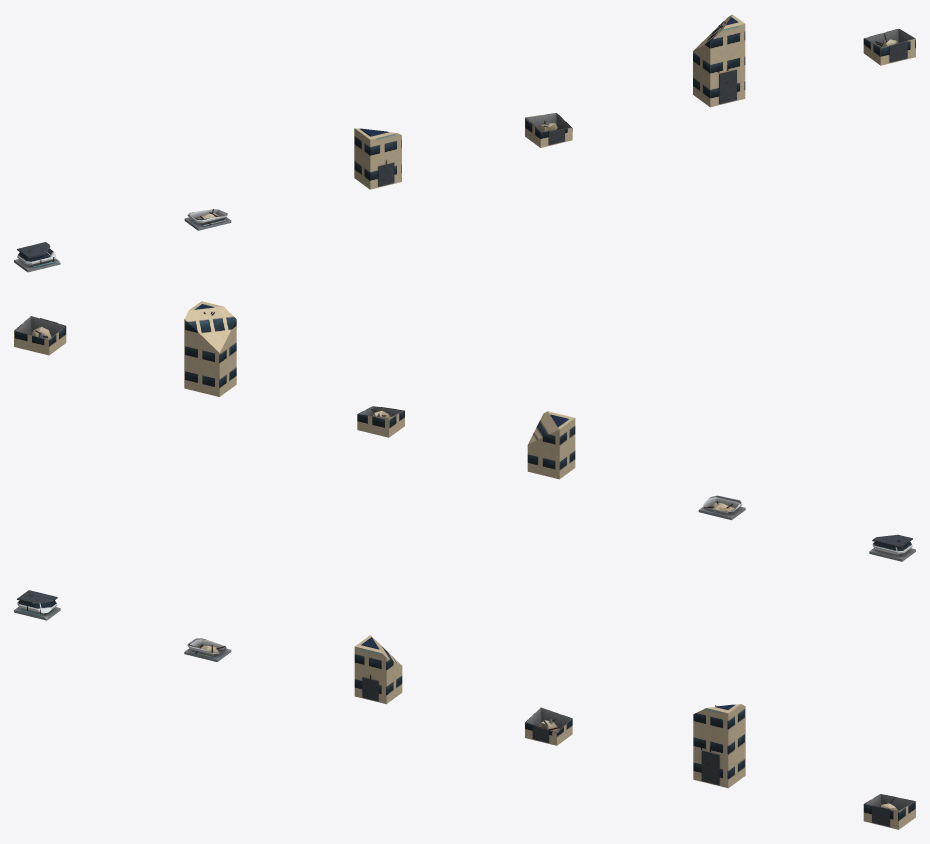
Rendered from future-levant-houses-damage.glb.
The picture shows the model from 3 angles, top to bottom: view 1: azimuth 30°, elevation 25°; view 2: azimuth 150°, elevation 25°; view 3: azimuth 330°, elevation 25°; orthographic projection.
Visible parts, largest first — view 1: LOD0.004, LOD0.002, LOD0.005, LOD0.003, LOD0, LOD0.001; view 2: LOD0.004, LOD0.002, LOD0.005, LOD0.003, LOD0, LOD0.001; view 3: LOD0.004, LOD0.002, LOD0.005, LOD0.003, LOD0, LOD0.001.
Boxes of the visible parts, box(x1,y1,x2,y2) form: LOD0.004: box(693, 14, 745, 107); LOD0.002: box(354, 128, 401, 189); LOD0.005: box(863, 28, 915, 65); LOD0.003: box(525, 113, 572, 147); LOD0: box(14, 242, 60, 272); LOD0.001: box(184, 209, 231, 230); LOD0.004: box(184, 301, 236, 396); LOD0.002: box(527, 411, 575, 479); LOD0.005: box(14, 316, 66, 355); LOD0.003: box(357, 406, 404, 437); LOD0: box(869, 534, 915, 561); LOD0.001: box(698, 495, 745, 520); LOD0.004: box(693, 704, 745, 788); LOD0.002: box(354, 635, 402, 704); LOD0.005: box(863, 794, 915, 829); LOD0.003: box(525, 707, 572, 745); LOD0: box(14, 590, 60, 620); LOD0.001: box(184, 638, 231, 661).
Size of what is drawn, in the model's own units: 15.6 by 1.28 by 0.532.
1 material, 1 textured.
